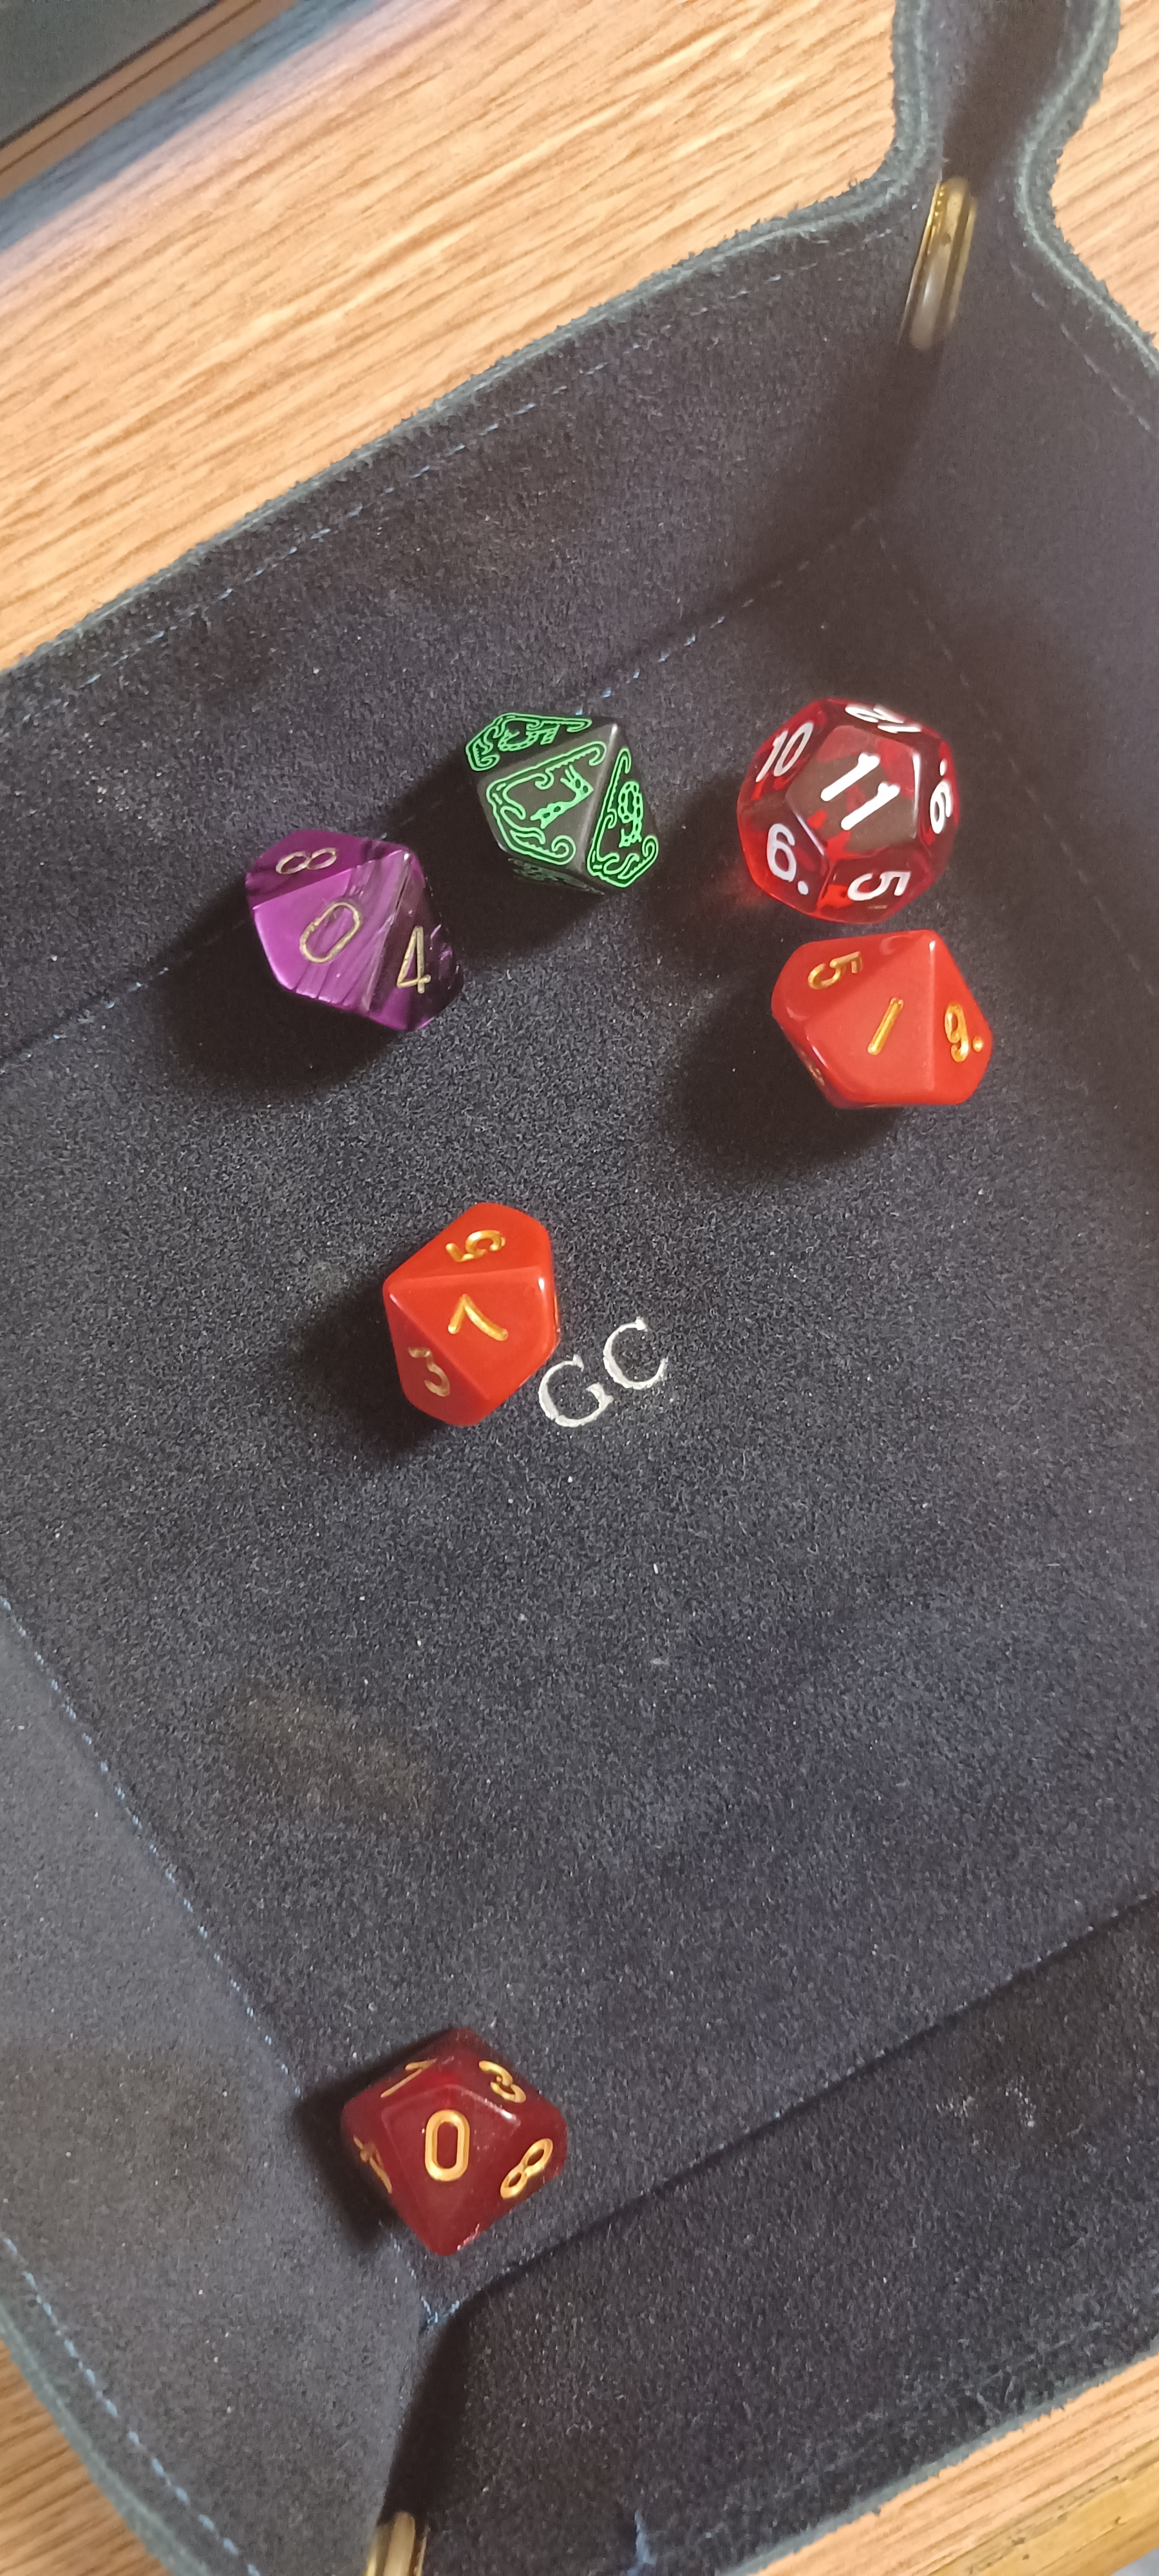eleven: (717, 674, 1003, 938)
one: (740, 918, 1018, 1135)
seven: (332, 1165, 642, 1452), (424, 674, 685, 927)
zero: (284, 1985, 637, 2293), (190, 808, 474, 1050)
